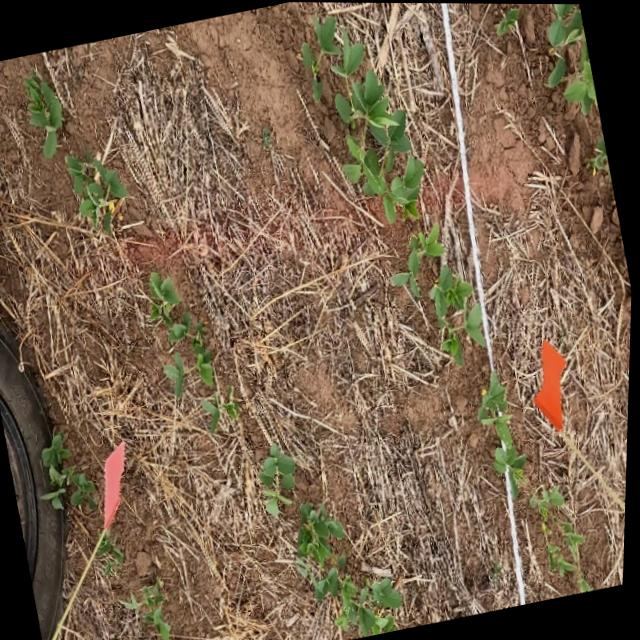soy_plant: (301, 15, 424, 219), (299, 504, 405, 636), (151, 272, 216, 395), (480, 371, 530, 505), (533, 486, 588, 591), (547, 3, 598, 112), (431, 264, 486, 363), (67, 153, 128, 230), (44, 432, 99, 509), (393, 224, 445, 295), (25, 73, 64, 156), (123, 579, 175, 640), (261, 443, 299, 514), (204, 390, 240, 430), (100, 534, 128, 573), (593, 134, 611, 172), (498, 8, 519, 33), (107, 492, 121, 524)
